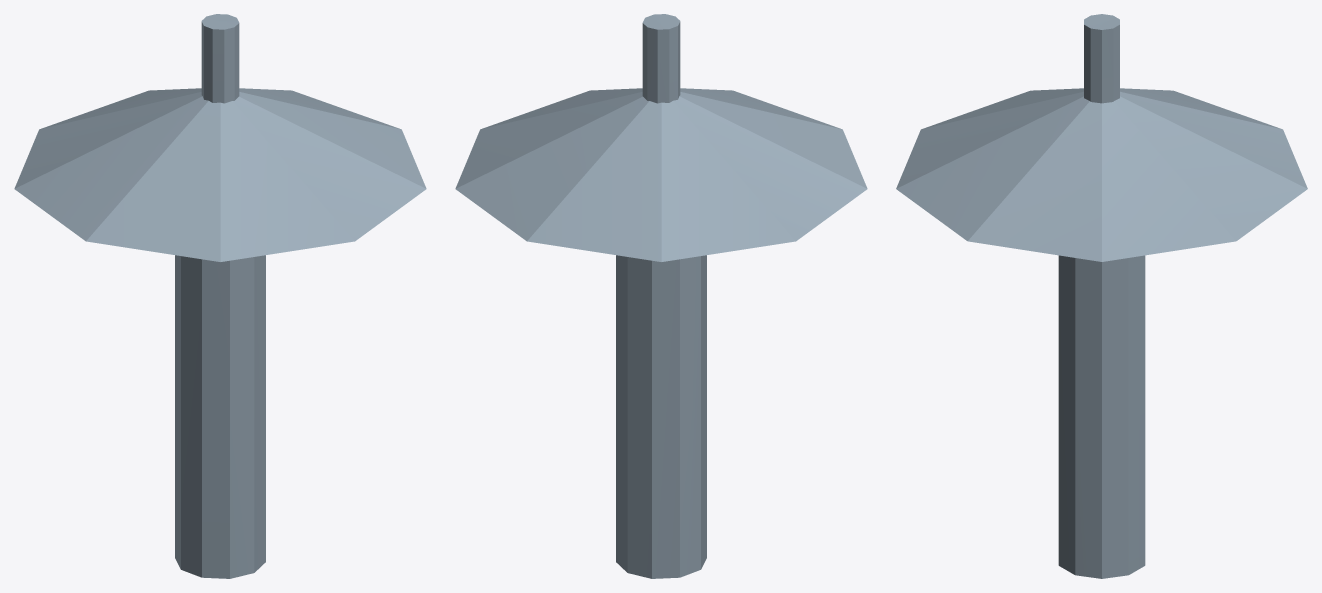
File: satellite_dish-01.glb
3 renders of one model, left to right at view 1: azimuth 30°, elevation 25°; view 2: azimuth 150°, elevation 25°; view 3: azimuth 270°, elevation 25°, orthographic.
Visible parts, largest first — view 1: world; view 2: world; view 3: world.
Boxes of the visible parts, x1=… form: world: x1=14, y1=14, x2=426, y2=578; world: x1=455, y1=14, x2=867, y2=578; world: x1=896, y1=14, x2=1307, y2=578.
Size of the model in its own units: 1.07 by 1.56 by 1.08.
